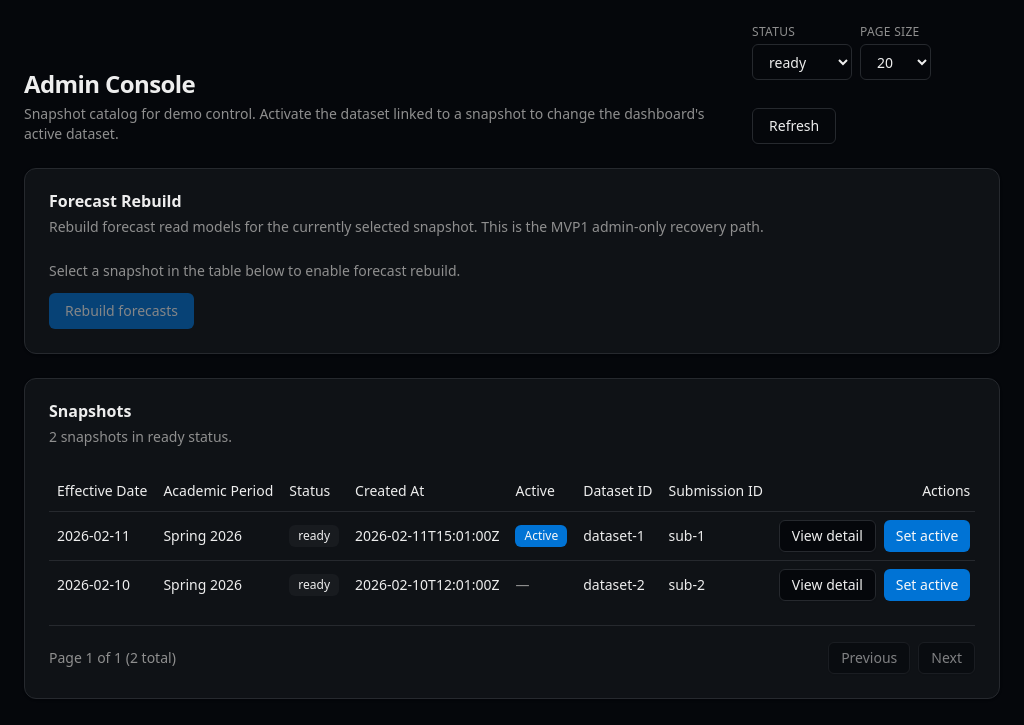
Test case: Admin Console route › shows in-flight forecast rebuild state in admin console while request is pending
This screenshot has width=1024, height=725.
Later steps or results of the test are not shown.
What coordinates should you click on to do the following:
click the button with aria-label "View snapshot detail snap-ready-inactive"
I would click on:
 (827, 584)
Its box is top-left (779, 568), bottom-right (876, 600).
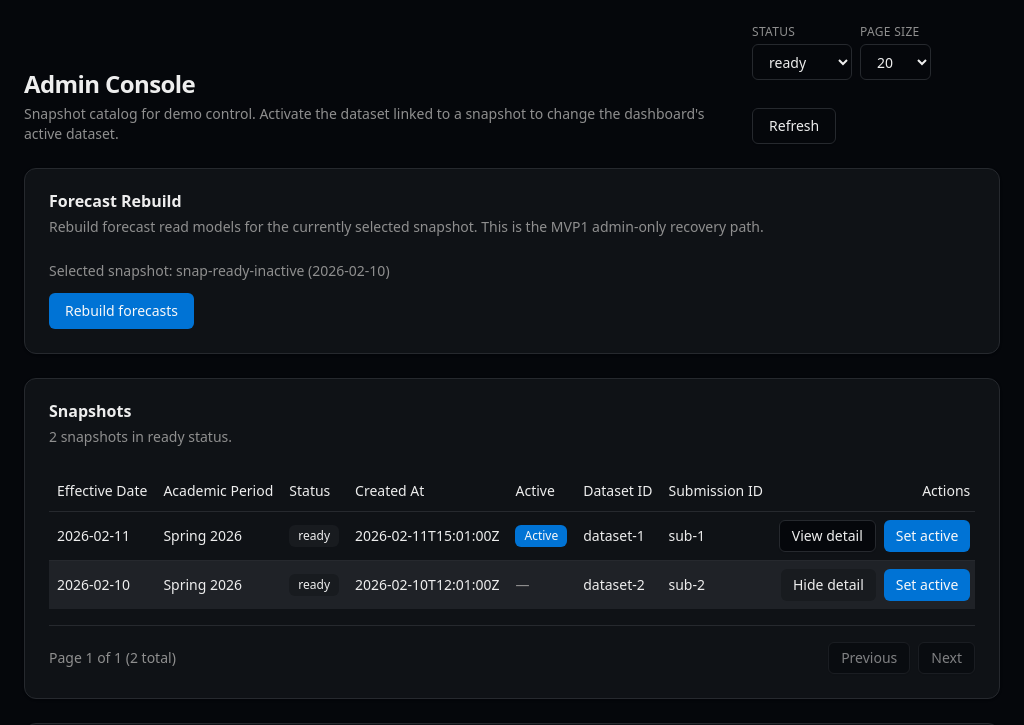
What coordinates should you click on to do the following:
click the button with test id "admin-console-rebuild-forecasts-button"
I would click on:
 (122, 311)
Its box is top-left (49, 293), bottom-right (194, 329).
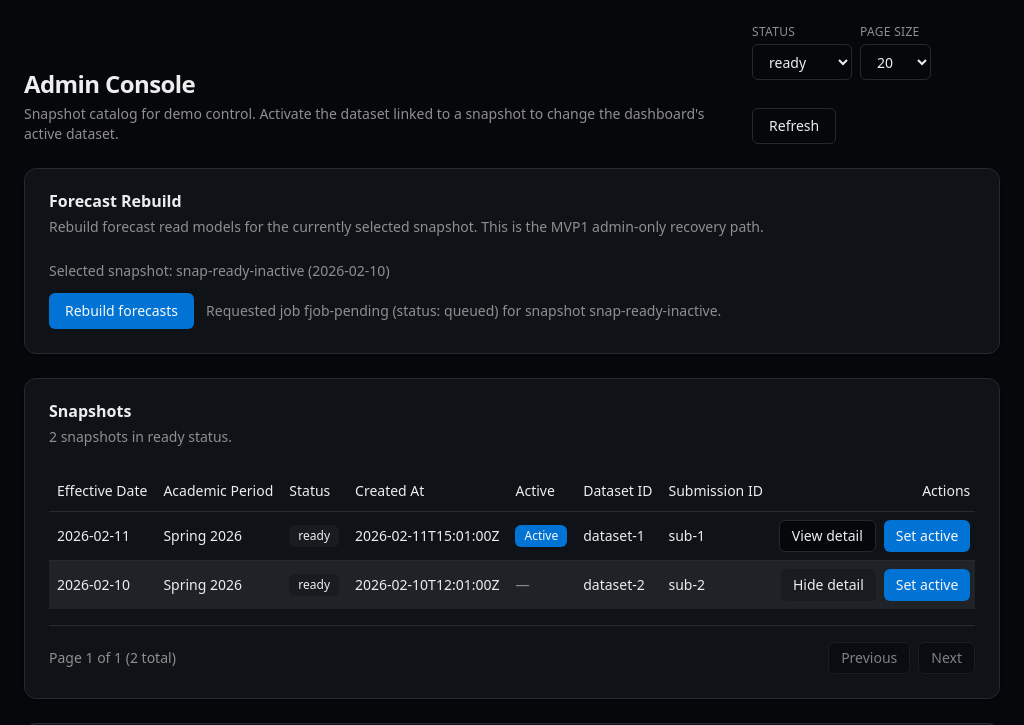
Expected: the text with test id "admin-console-forecast-rebuild-success" is shown, top-left (206, 301), bottom-right (721, 321)
